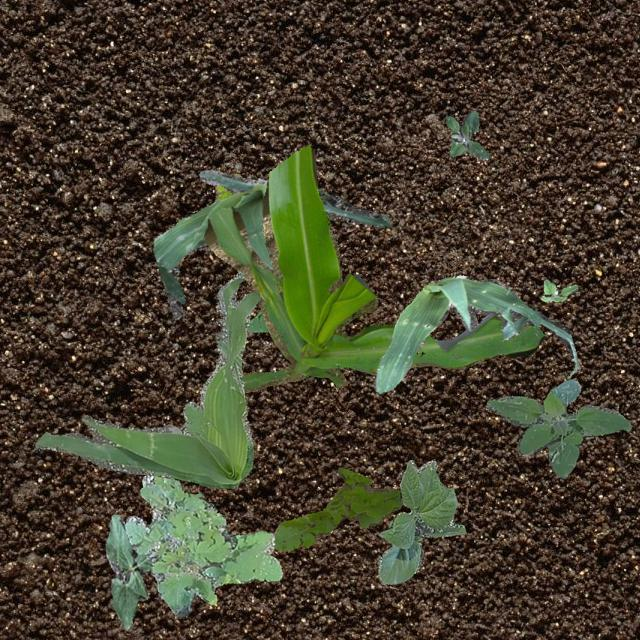crop: (202, 144, 544, 392), (152, 168, 390, 318), (372, 274, 580, 392), (376, 458, 464, 584), (104, 514, 150, 628)
weed: (32, 270, 258, 488), (125, 474, 282, 616), (486, 378, 630, 478), (273, 466, 402, 550), (444, 108, 488, 158), (540, 278, 576, 302), (245, 310, 268, 330), (214, 183, 232, 200)
